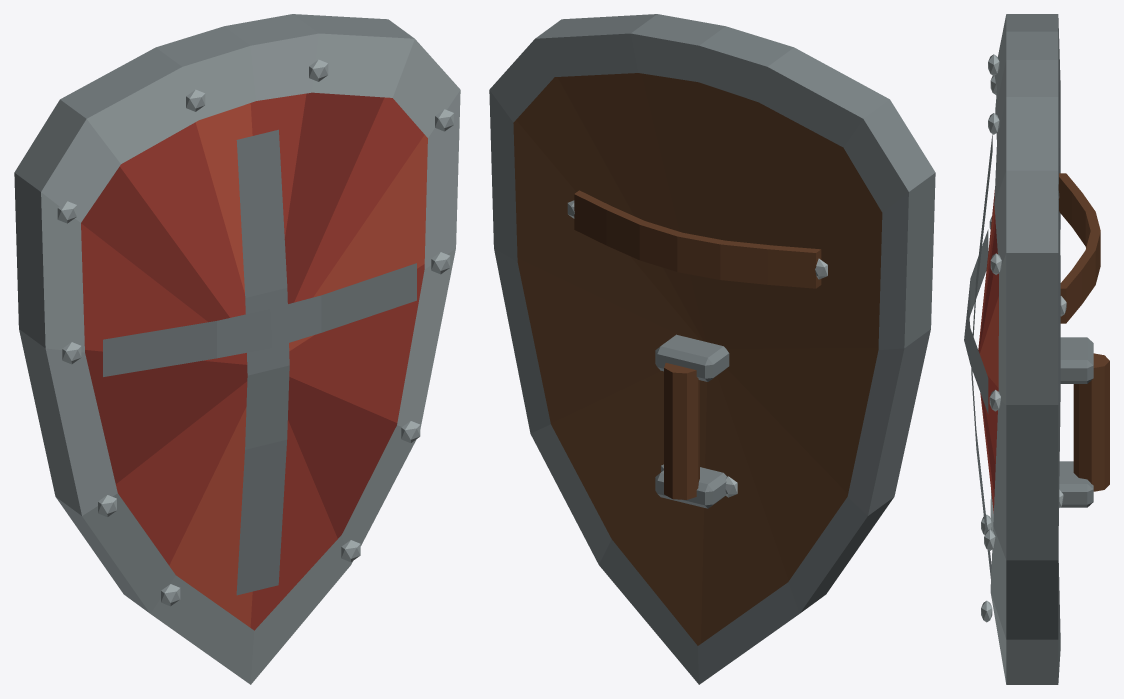
The model's file is shield_guardian_ai_1.glb.
3 renders of one model, left to right at view 1: azimuth 30°, elevation 25°; view 2: azimuth 150°, elevation 25°; view 3: azimuth 270°, elevation 25°, orthographic. The views are drawn at different scales.
Parts seen in each view (by area): view 1: Shield_Painted_Core, Shield_Reinforced_Rim, Shield_Vertical_Brace, Shield_Horizontal_Brace; view 2: Shield_Painted_Core, Shield_Reinforced_Rim, Shield_Back_Arm_Strap, Shield_Back_Hand_Grip, Shield_Grip_Bracket_02, Shield_Grip_Bracket_01; view 3: Shield_Reinforced_Rim, Shield_Back_Hand_Grip, Shield_Back_Arm_Strap, Shield_Painted_Core, Shield_Horizontal_Brace, Shield_Grip_Bracket_02, Shield_Grip_Bracket_01, Shield_Vertical_Brace.
Part boxes in pixels (left/top/right/bottom): Shield_Painted_Core: left=81, top=92, right=427, bottom=630; Shield_Reinforced_Rim: left=14, top=14, right=460, bottom=684; Shield_Vertical_Brace: left=236, top=129, right=289, bottom=595; Shield_Horizontal_Brace: left=103, top=263, right=416, bottom=376; Shield_Painted_Core: left=513, top=73, right=882, bottom=645; Shield_Reinforced_Rim: left=489, top=14, right=935, bottom=684; Shield_Back_Arm_Strap: left=574, top=190, right=821, bottom=288; Shield_Back_Hand_Grip: left=664, top=363, right=699, bottom=499; Shield_Grip_Bracket_02: left=655, top=334, right=729, bottom=381; Shield_Grip_Bracket_01: left=655, top=467, right=726, bottom=508; Shield_Reinforced_Rim: left=990, top=14, right=1060, bottom=684; Shield_Back_Hand_Grip: left=1073, top=353, right=1109, bottom=491; Shield_Back_Arm_Strap: left=1058, top=173, right=1100, bottom=323; Shield_Painted_Core: left=978, top=190, right=998, bottom=513; Shield_Horizontal_Brace: left=964, top=229, right=988, bottom=413; Shield_Grip_Bracket_02: left=1060, top=337, right=1093, bottom=383; Shield_Grip_Bracket_01: left=1059, top=461, right=1093, bottom=507; Shield_Vertical_Brace: left=971, top=134, right=992, bottom=578.
Size of the model in its own units: 0.9366 by 1.36 by 0.2885.
